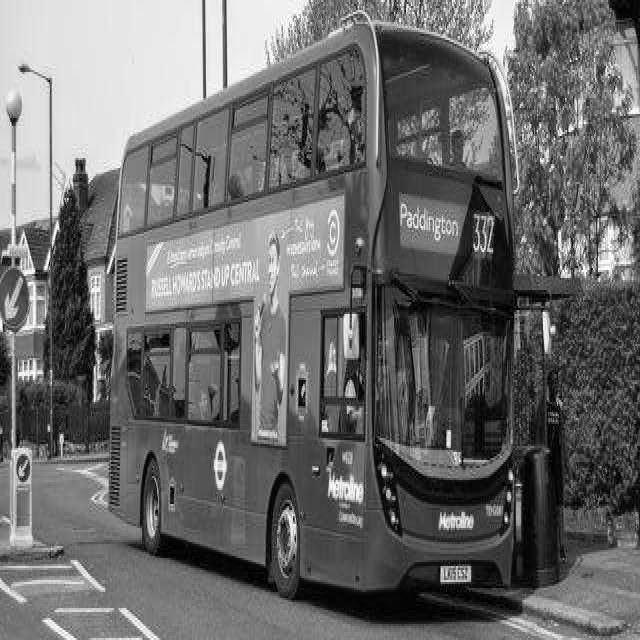Bus: (104, 40, 520, 598)
